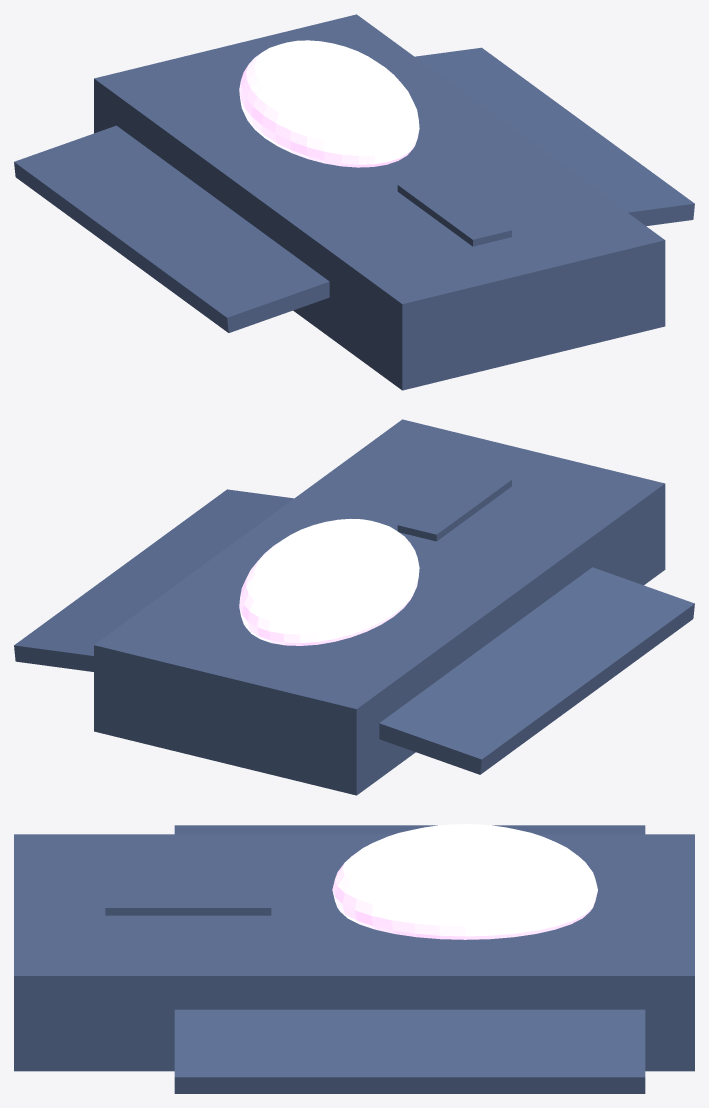
Rendered from ranger_t1.glb.
3 renders of one model, top to bottom at view 1: azimuth 30°, elevation 25°; view 2: azimuth 150°, elevation 25°; view 3: azimuth 270°, elevation 25°, orthographic. The views are drawn at different scales.
Parts seen in each view (by area): view 1: Cube, Cube.002, Sphere, Cube.001, Cube.003; view 2: Cube, Cube.002, Sphere, Cube.001, Cube.003; view 3: Cube, Cube.001, Sphere, Cube.003, Cube.002.
Part boxes in pixels (x1,y1,x2,y2): Cube: (94,14,665,390); Cube.002: (14,125,329,332); Sphere: (239,40,419,167); Cube.001: (415,47,694,226); Cube.003: (397,175,511,246); Cube: (94,419,665,795); Cube.002: (379,567,694,774); Sphere: (239,518,419,645); Cube.001: (14,489,293,671); Cube.003: (397,470,511,541); Cube: (14,834,694,1071); Cube.001: (174,1009,645,1093); Sphere: (332,824,597,939); Cube.003: (105,887,271,915); Cube.002: (174,825,645,834).
Size of the model in its own units: 2.15 by 0.66 by 2.46.
